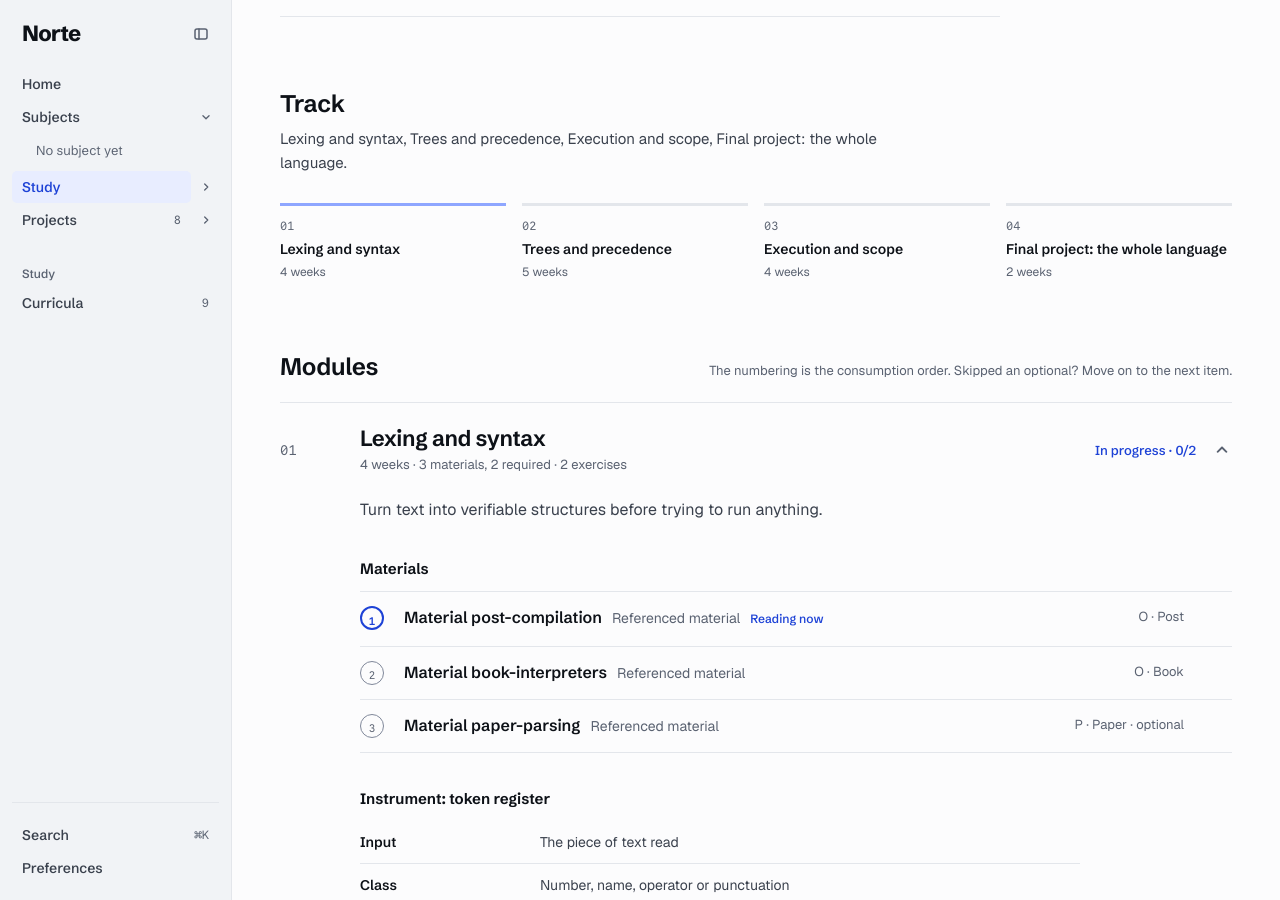
curriculum screen › opens a module from the ruler
(page scrolled)
Click the button with class "nt-mod-head" at (453, 438), box [280, 403, 1232, 497]
(page scrolled)
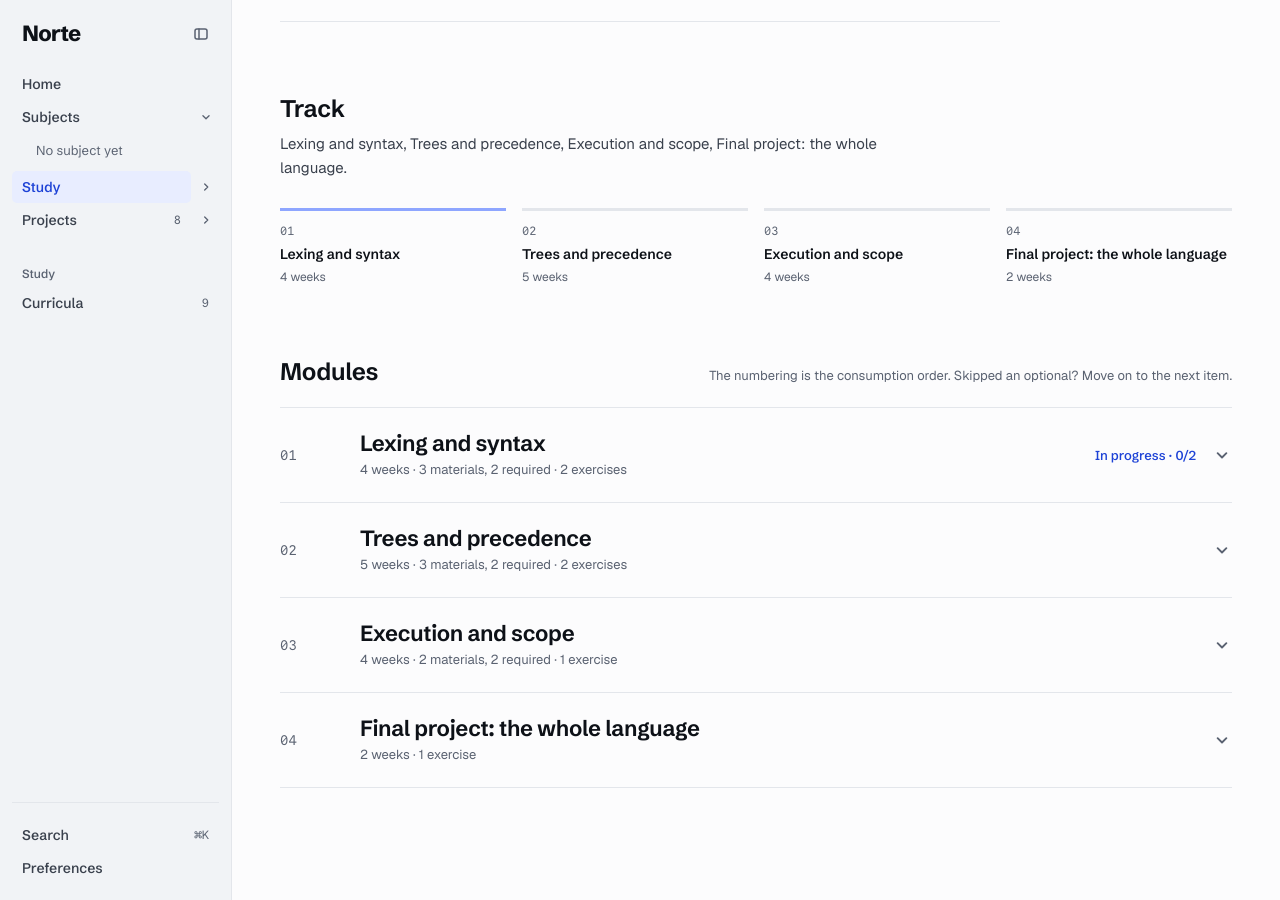
Click the button with class "ruler-step" showing "03 Execution and scope 4 weeks" at (877, 246), box [764, 208, 990, 285]
(page scrolled)
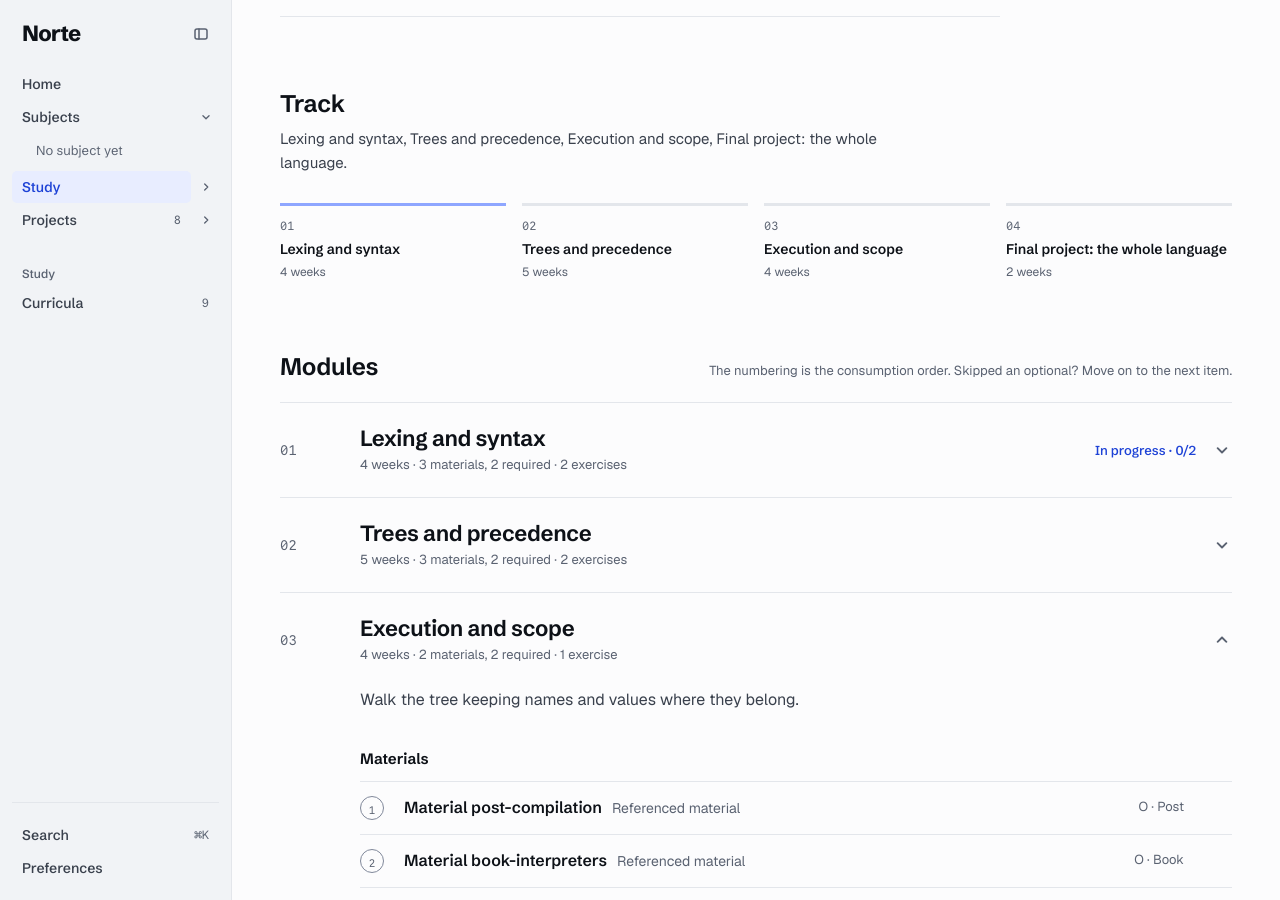
Expected: the button with class "nt-mod-head" is expanded, [280, 593, 1232, 687]
